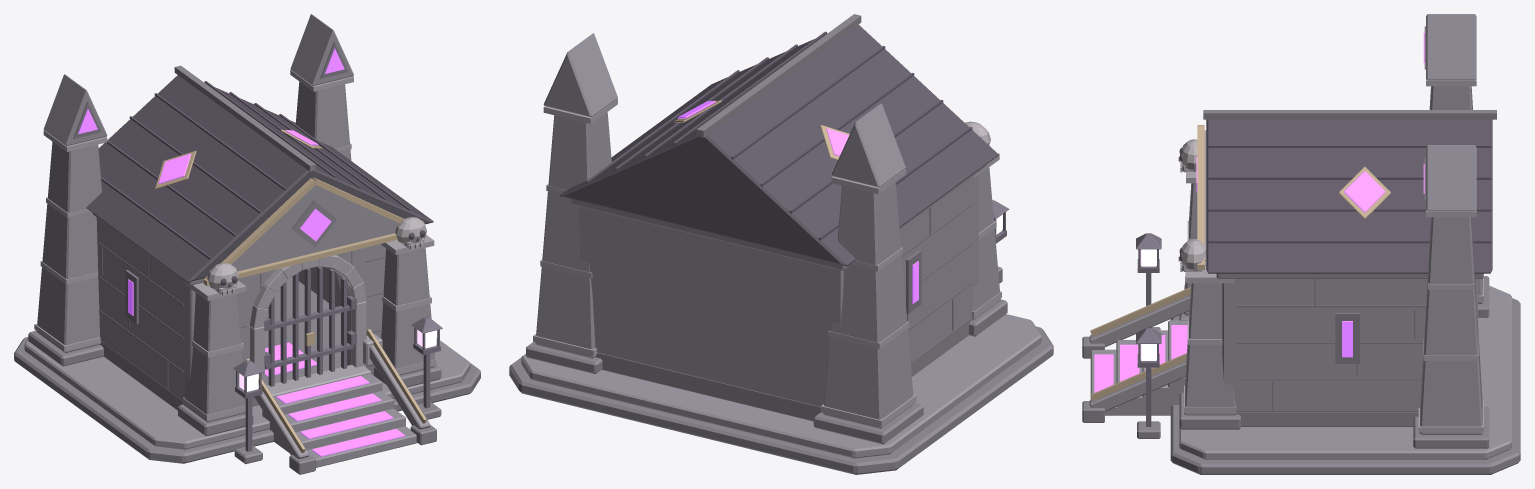
Rendered from Crypt_V2.glb.
3 renders of one model, left to right at view 1: azimuth 30°, elevation 25°; view 2: azimuth 150°, elevation 25°; view 3: azimuth 270°, elevation 25°, orthographic. The views are drawn at different scales.
Visible parts, largest first — view 1: Crypt_StoneAndRoof, Crypt_Iron, Crypt_VioletInlays, Crypt_Bronze, Crypt_LanternLight; view 2: Crypt_StoneAndRoof, Crypt_VioletInlays; view 3: Crypt_StoneAndRoof, Crypt_VioletInlays, Crypt_Bronze, Crypt_Iron, Crypt_LanternLight.
Part boxes in pixels (x1,y1,x2,y2): Crypt_StoneAndRoof: (14, 14, 480, 474); Crypt_Iron: (233, 266, 442, 451); Crypt_VioletInlays: (78, 48, 405, 456); Crypt_Bronze: (155, 130, 426, 452); Crypt_LanternLight: (239, 330, 436, 391); Crypt_StoneAndRoof: (509, 14, 1053, 474); Crypt_VioletInlays: (678, 101, 918, 303); Crypt_StoneAndRoof: (1082, 14, 1520, 474); Crypt_VioletInlays: (1094, 33, 1424, 392); Crypt_Bronze: (1090, 125, 1390, 400); Crypt_Iron: (1136, 233, 1161, 426); Crypt_LanternLight: (1140, 249, 1156, 360).
Bounding box in the file's own units: 10.9 × 8.83 × 11.4.
